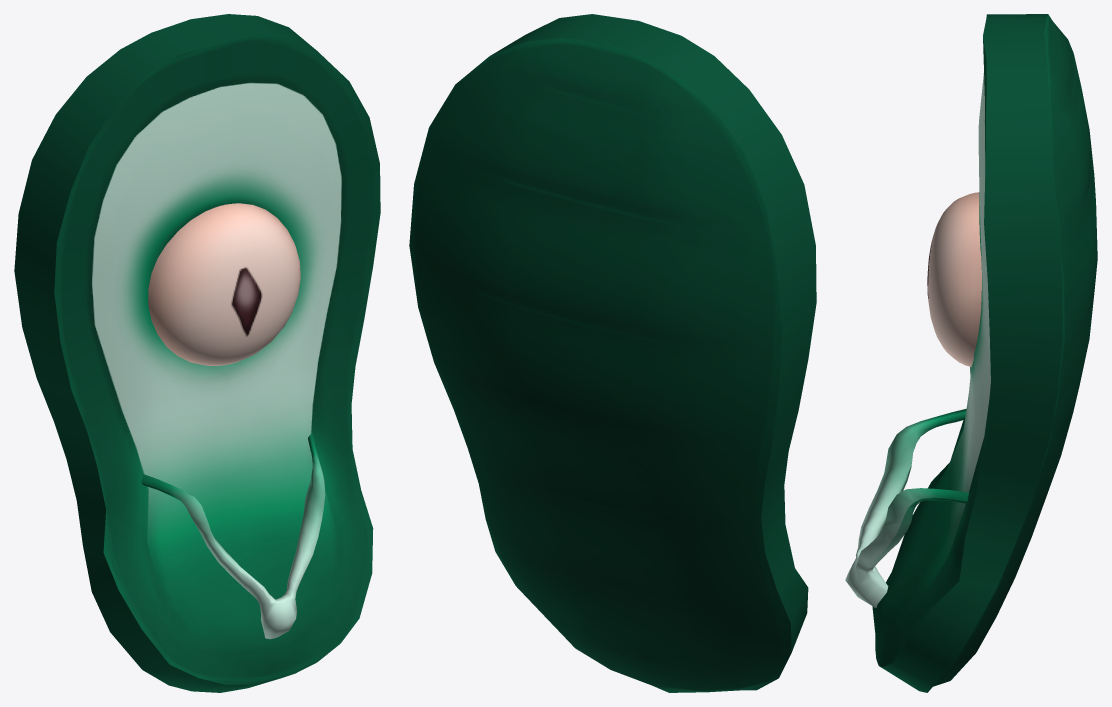
Rendered from SM_Chara_Yokai_Bakezori.fbx.
The picture shows the model from 3 angles, left to right: view 1: azimuth 30°, elevation 25°; view 2: azimuth 150°, elevation 25°; view 3: azimuth 270°, elevation 25°; orthographic projection. The views are drawn at different scales.
Parts seen in each view (by area): view 1: SM_Chara_Yokai_Bakezori, SM_Chara_Yokai_Bakezori_Eye; view 2: SM_Chara_Yokai_Bakezori; view 3: SM_Chara_Yokai_Bakezori, SM_Chara_Yokai_Bakezori_Eye.
Part boxes in pixels (box(x1,y1,x2,y2)): SM_Chara_Yokai_Bakezori: box(14, 14, 380, 692); SM_Chara_Yokai_Bakezori_Eye: box(148, 203, 300, 365); SM_Chara_Yokai_Bakezori: box(409, 14, 816, 692); SM_Chara_Yokai_Bakezori: box(845, 14, 1097, 692); SM_Chara_Yokai_Bakezori_Eye: box(927, 192, 981, 366).
Size of the model in its own units: 1.96 by 3.51 by 1.25.
